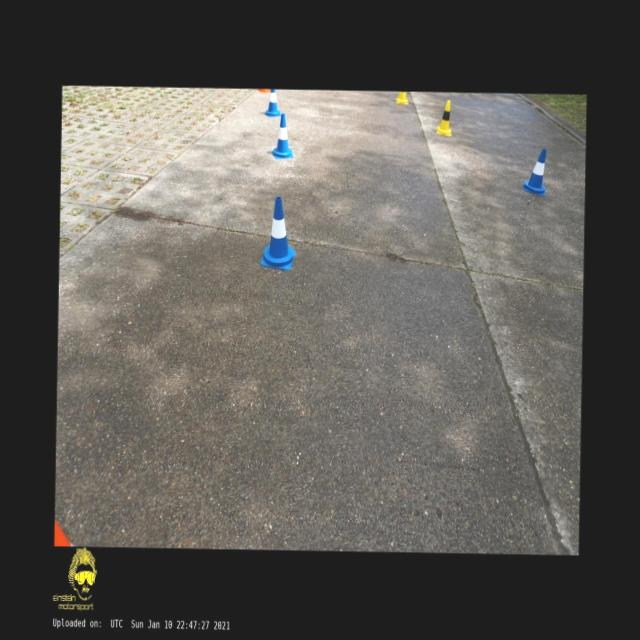blue_cone: (260, 197, 296, 270), (522, 147, 546, 195), (271, 113, 294, 159), (264, 88, 282, 115)
yellow_cone: (436, 99, 452, 135), (395, 91, 408, 103)
